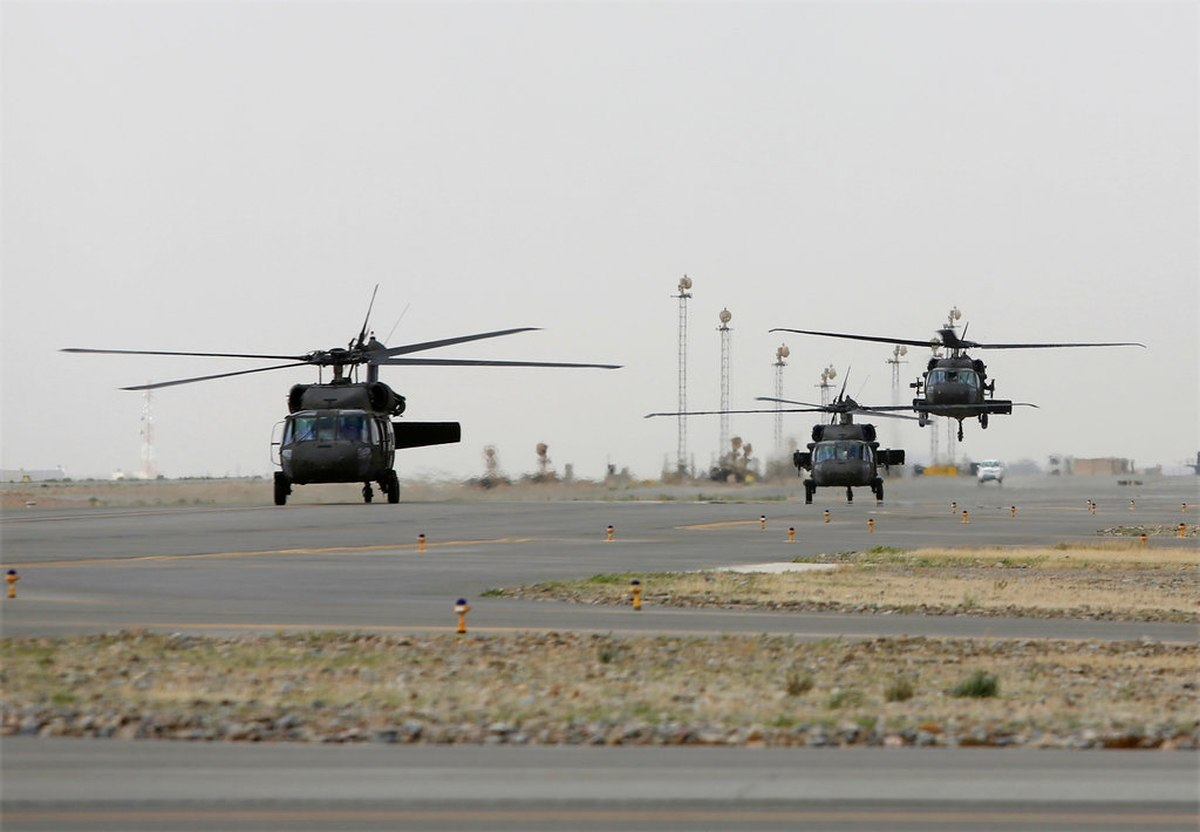MilitaryHelicopter: (196, 313, 476, 513), (906, 320, 1084, 435), (784, 385, 913, 505)
